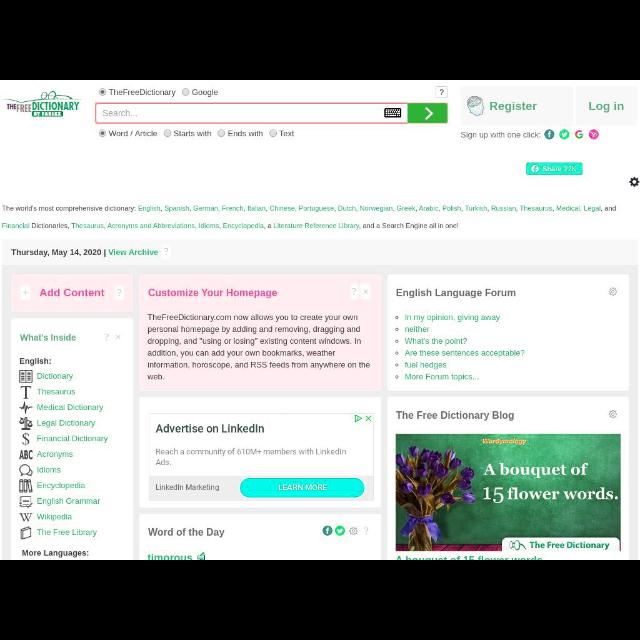button: (408, 103, 448, 123), (436, 85, 448, 98)
checkbox: (162, 128, 172, 138), (99, 87, 107, 97), (99, 128, 107, 138), (217, 128, 225, 138), (270, 128, 276, 138), (182, 88, 190, 95)
icon: (382, 106, 403, 120), (18, 476, 34, 494), (20, 430, 34, 448), (17, 463, 35, 477), (20, 368, 34, 384), (18, 417, 34, 431), (114, 284, 126, 302), (348, 283, 359, 301), (19, 495, 33, 509), (21, 384, 33, 400), (424, 106, 436, 120), (628, 174, 640, 188), (334, 522, 346, 536), (20, 527, 32, 541), (18, 450, 34, 460), (363, 284, 371, 302), (349, 524, 359, 538), (362, 524, 372, 538), (608, 285, 618, 299), (20, 285, 30, 299), (101, 329, 111, 343), (20, 404, 34, 414), (18, 512, 32, 522), (606, 408, 618, 419), (544, 129, 556, 139), (588, 129, 600, 139), (114, 332, 124, 344), (560, 130, 570, 140), (575, 130, 585, 140), (197, 550, 207, 560), (322, 524, 332, 534), (162, 246, 172, 256), (438, 86, 446, 95), (531, 164, 539, 172)
iframe: (148, 412, 376, 504)
image: (397, 436, 621, 550), (2, 87, 82, 121), (466, 94, 486, 116)
input: (94, 100, 450, 124)
link: (404, 348, 526, 358), (406, 312, 502, 322), (36, 434, 110, 446), (404, 372, 481, 382), (36, 402, 104, 413), (106, 222, 196, 230), (404, 337, 468, 348), (274, 223, 360, 231), (37, 418, 97, 428), (37, 527, 97, 537), (36, 498, 102, 507), (109, 247, 159, 257), (402, 360, 450, 370), (36, 482, 88, 491), (222, 221, 266, 231), (37, 387, 77, 397), (36, 371, 74, 381), (36, 512, 74, 522), (298, 204, 336, 214), (36, 450, 74, 458), (146, 553, 194, 559), (360, 204, 394, 212), (71, 222, 105, 230), (441, 204, 461, 216), (519, 205, 553, 212), (165, 204, 191, 213), (193, 204, 220, 212), (464, 204, 488, 213), (556, 204, 580, 213), (36, 466, 62, 474), (270, 204, 296, 212), (419, 204, 439, 214), (406, 325, 430, 333), (138, 204, 162, 212), (492, 204, 516, 212), (338, 204, 358, 213), (223, 205, 245, 213), (198, 222, 220, 230), (3, 223, 31, 229), (396, 205, 416, 213), (584, 204, 602, 212), (248, 205, 266, 212)
text: (1, 202, 622, 232), (146, 310, 376, 386), (396, 407, 520, 425), (148, 284, 278, 300), (396, 284, 518, 300), (10, 245, 102, 259), (147, 525, 227, 539), (38, 286, 106, 300), (110, 84, 177, 96), (461, 130, 541, 140), (490, 99, 540, 113), (21, 548, 90, 558), (21, 332, 78, 342), (585, 100, 625, 114), (109, 128, 157, 138), (228, 128, 264, 140), (102, 108, 138, 119), (174, 128, 212, 138), (18, 354, 52, 364), (542, 164, 578, 172), (192, 87, 220, 97), (281, 128, 295, 138)
textbutton: (462, 87, 572, 127), (578, 86, 636, 125), (526, 161, 584, 177)
toolbar: (1, 80, 639, 194)
